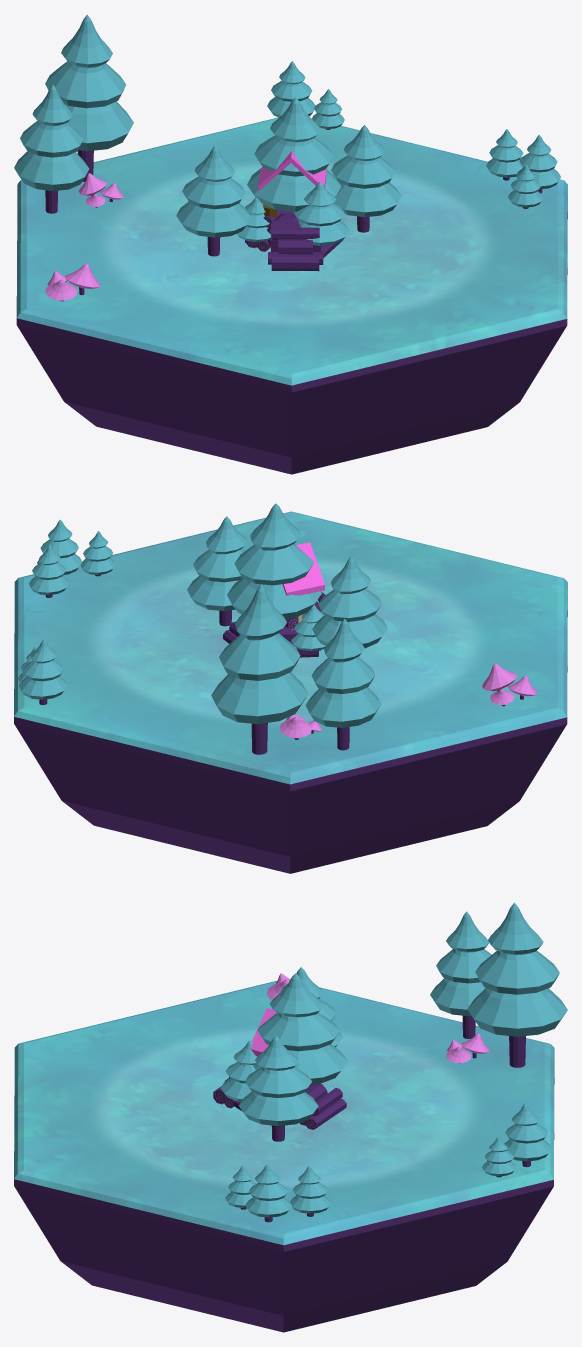
Rendered from Asset_Biome_Forest_03.fbx.
3 views of the same model, one above another, from view 1: azimuth 30°, elevation 25°; view 2: azimuth 150°, elevation 25°; view 3: azimuth 270°, elevation 25° (orthographic). The views are drawn at different scales.
Parts seen in each view (by area): view 1: Asset_Tile_Forest, PolySurface_TreeForest_011, PolySurface_TreeForest_02, PolySurface_TreeForest_04, PolySurface_TreeForest_03, PolySurface_TreeForest_06, PolySurface_TreeForest_05, PolySurface_TreeForest_013, PolySurface_TreeForest_09, PolySurface_MushroomForest_02, PolySurface_TreeForest_07, PolySurface_TreeForest_08 (+6 smaller); view 2: Asset_Tile_Forest, PolySurface_TreeForest_011, PolySurface_TreeForest_02, PolySurface_TreeForest_04, PolySurface_TreeForest_03, PolySurface_TreeForest_06, PolySurface_TreeForest_013, PolySurface_TreeForest_07, PolySurface_MushroomForest_02, PolySurface_TreeForest_09, PolySurface_TreeForest_08, structure_puit1 (+2 smaller); view 3: Asset_Tile_Forest, PolySurface_TreeForest_011, PolySurface_TreeForest_02, PolySurface_TreeForest_06, PolySurface_TreeForest_04, PolySurface_TreeForest_013, PolySurface_TreeForest_09, PolySurface_TreeForest_07, PolySurface_TreeForest_05, PolySurface_TreeForest_012, PolySurface_TreeForest_08, PolySurface_MushroomForest_01 (+1 smaller).
Boxes of the visible parts, bbox=[...] form: Asset_Tile_Forest: bbox=[16, 117, 567, 474]; PolySurface_TreeForest_011: bbox=[45, 14, 133, 181]; PolySurface_TreeForest_02: bbox=[247, 97, 341, 212]; PolySurface_TreeForest_04: bbox=[14, 84, 89, 213]; PolySurface_TreeForest_03: bbox=[176, 146, 251, 256]; PolySurface_TreeForest_06: bbox=[331, 125, 401, 232]; PolySurface_TreeForest_05: bbox=[293, 182, 349, 245]; PolySurface_TreeForest_013: bbox=[267, 61, 315, 117]; PolySurface_TreeForest_09: bbox=[516, 135, 560, 193]; PolySurface_MushroomForest_02: bbox=[45, 263, 100, 301]; PolySurface_TreeForest_07: bbox=[486, 129, 523, 180]; PolySurface_TreeForest_08: bbox=[508, 164, 543, 208]; Asset_Tile_Forest: bbox=[14, 511, 567, 873]; PolySurface_TreeForest_011: bbox=[211, 584, 307, 754]; PolySurface_TreeForest_02: bbox=[227, 503, 321, 619]; PolySurface_TreeForest_04: bbox=[305, 618, 381, 750]; PolySurface_TreeForest_03: bbox=[312, 556, 387, 648]; PolySurface_TreeForest_06: bbox=[187, 516, 247, 626]; PolySurface_TreeForest_013: bbox=[19, 639, 67, 704]; PolySurface_TreeForest_07: bbox=[29, 545, 69, 597]; PolySurface_MushroomForest_02: bbox=[482, 663, 537, 706]; PolySurface_TreeForest_09: bbox=[37, 519, 82, 574]; PolySurface_TreeForest_08: bbox=[80, 531, 115, 576]; structure_puit1: bbox=[282, 542, 324, 629]; Asset_Tile_Forest: bbox=[14, 981, 554, 1332]; PolySurface_TreeForest_011: bbox=[467, 902, 567, 1067]; PolySurface_TreeForest_02: bbox=[253, 973, 347, 1084]; PolySurface_TreeForest_06: bbox=[238, 1035, 318, 1141]; PolySurface_TreeForest_04: bbox=[430, 911, 491, 1038]; PolySurface_TreeForest_013: bbox=[504, 1103, 552, 1167]; PolySurface_TreeForest_09: bbox=[245, 1164, 292, 1222]; PolySurface_TreeForest_07: bbox=[290, 1166, 331, 1216]; PolySurface_TreeForest_05: bbox=[220, 1040, 256, 1101]; PolySurface_TreeForest_012: bbox=[482, 1137, 516, 1177]; PolySurface_TreeForest_08: bbox=[225, 1166, 256, 1209]; PolySurface_MushroomForest_01: bbox=[446, 1033, 489, 1063].
Bounding box in the file's own units: 436 × 236 × 388.
